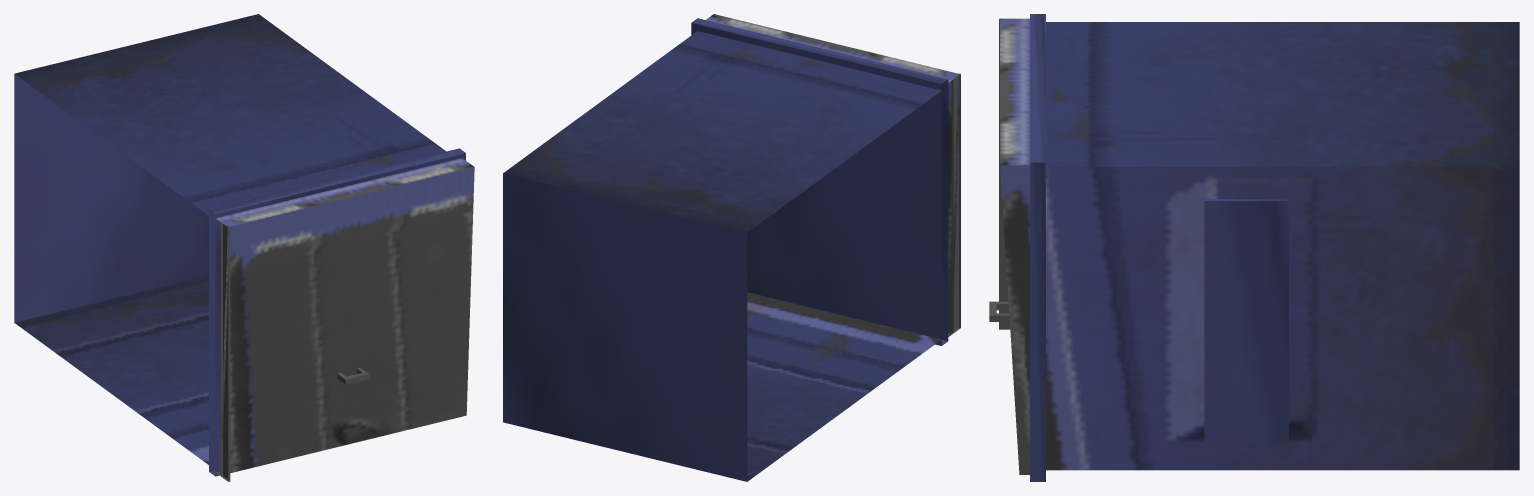
The model's file is pz_g020_trashcontainers_01_blue_dumpster_part0.obj.
3 renders of one model, left to right at view 1: azimuth 30°, elevation 25°; view 2: azimuth 150°, elevation 25°; view 3: azimuth 270°, elevation 25°, orthographic. The views are drawn at different scales.
Parts seen in each view (by area): view 1: closed_lid_top, dumpster_body_front, dumpster_body_bottom, dumpster_body_rear, closed_lid_rear, upper_lip_top, upper_lip_bottom, upper_lip_front, lid_split_left, closed_lid_bottom, lid_split_top; view 2: dumpster_body_bottom, dumpster_body_front, upper_lip_bottom, dumpster_body_rear, closed_lid_rear, upper_lip_top, upper_lip_front, closed_lid_top, lid_split_left, lid_split_bottom, lid_split_top; view 3: dumpster_body_left, dumpster_body_front, side_lift_bar_left, closed_lid_left, upper_lip_left, closed_lid_rear, upper_lip_front, lid_split_left.
Part boxes in pixels (<box>): closed_lid_top: <box>219,167,474,475</box>; dumpster_body_front: <box>15,14,446,215</box>; dumpster_body_bottom: <box>14,74,208,322</box>; dumpster_body_rear: <box>14,275,208,464</box>; closed_lid_rear: <box>215,158,473,226</box>; upper_lip_top: <box>215,153,465,476</box>; upper_lip_bottom: <box>209,210,215,471</box>; upper_lip_front: <box>209,148,465,214</box>; lid_split_left: <box>223,224,228,479</box>; closed_lid_bottom: <box>215,219,220,472</box>; lid_split_top: <box>228,227,230,481</box>; dumpster_body_bottom: <box>503,173,747,481</box>; dumpster_body_front: <box>503,31,941,232</box>; upper_lip_bottom: <box>691,23,941,345</box>; dumpster_body_rear: <box>747,292,941,481</box>; closed_lid_rear: <box>706,14,958,82</box>; upper_lip_top: <box>941,79,948,341</box>; upper_lip_front: <box>691,18,947,83</box>; closed_lid_top: <box>948,74,960,334</box>; lid_split_left: <box>953,76,958,330</box>; lid_split_bottom: <box>951,79,953,333</box>; lid_split_top: <box>959,74,960,327</box>; dumpster_body_left: <box>1046,167,1519,470</box>; dumpster_body_front: <box>1046,22,1519,166</box>; side_lift_bar_left: <box>1204,201,1288,443</box>; closed_lid_left: <box>1000,165,1029,474</box>; upper_lip_left: <box>1030,162,1045,481</box>; closed_lid_rear: <box>1000,18,1029,165</box>; upper_lip_front: <box>1030,14,1045,162</box>; lid_split_left: <box>999,20,1010,329</box>.
Bounding box in the file's own units: 1 × 1 × 1.5.
Materials: 1 (1 with a texture image).
